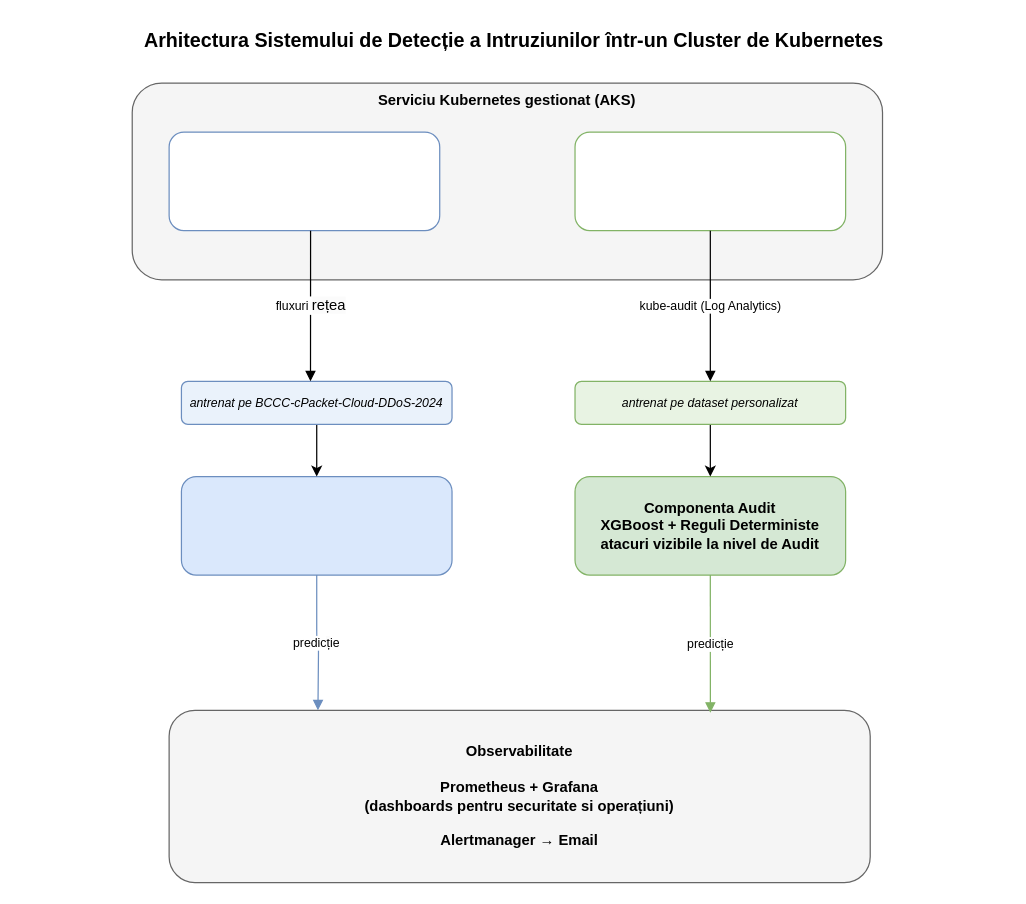
Image size: 1026x904. Some labels were removed from this diagram. The centre of each missing label's shape, as x and y in pixels:
"Componenta Flow XGBoost + Autoencoder atacuri de rețea (DDoS)" goes at point 316,525.
"Plan control / API ( loguri audit API-server)" goes at point 710,181.
"Plan rețea (trafic / fluxuri rețea )" goes at point 304,181.
